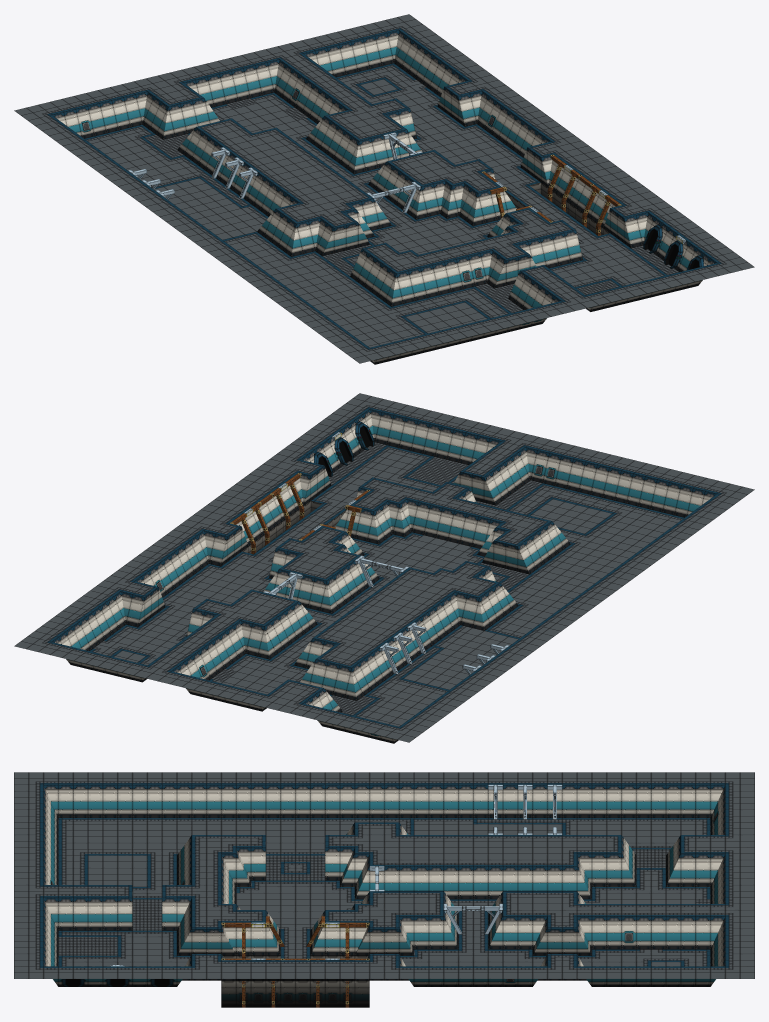
File: 1stage.obj
3 views of the same model, one above another, from view 1: azimuth 30°, elevation 25°; view 2: azimuth 150°, elevation 25°; view 3: azimuth 270°, elevation 25° (orthographic). The views are drawn at different scales.
Visible parts, largest first — view 1: wall_cornerInOut__1_, wall_cornerOut__19_, wall_cornerOut__17_, wall_cornerOut__8_, wall_cornerOut__10_, wall_cornerOut__15_, wall_cornerOut__5_, wall_edge_B__9_, wall_cornerInOut__2_, wall_edge_B__8_, wall_cornerInCap_B__1_, wall_edge_A__4_ (+11 smaller); view 2: wall_cornerInOut__4_, wall_cornerOut__18_, wall_cornerOut__4_, wall_cornerOut__7_, wall_cornerOut__9_, wall_cornerOut__16_, wall_edge_A__9_, wall_cornerInOut__3_, wall_cornerInCap_A__2_, wall_edge_A__8_, wall_edge_B__3_, wall_edge_B__5_ (+9 smaller); view 3: wall_cornerInOut__2_, wall_cornerInOut__3_, wall_cornerInCap_B__2_, wall_cornerInCap_A__1_, wall_cornerOut__2_, wall_cornerOut__12_, wall_cornerOut__3_, wall_cornerOut__11_, wall_cornerOut__14_, wall_cornerOut__1_, wall_cornerOut__13_, wall_edge_B__4_ (+109 smaller).
Part boxes in pixels (bbox=[...]): wall_cornerInOut__1_: bbox=[427, 173, 482, 218]; wall_cornerOut__19_: bbox=[149, 98, 186, 139]; wall_cornerOut__17_: bbox=[277, 216, 315, 256]; wall_cornerOut__8_: bbox=[459, 185, 496, 225]; wall_cornerOut__10_: bbox=[340, 133, 377, 173]; wall_cornerOut__15_: bbox=[378, 266, 415, 306]; wall_cornerOut__5_: bbox=[402, 178, 439, 219]; wall_edge_B__9_: bbox=[315, 220, 346, 255]; wall_cornerInOut__2_: bbox=[326, 196, 374, 238]; wall_edge_B__8_: bbox=[487, 252, 518, 288]; wall_cornerInCap_B__1_: bbox=[534, 146, 571, 187]; wall_edge_A__4_: bbox=[451, 89, 476, 126]; wall_cornerInOut__4_: bbox=[369, 491, 424, 536]; wall_cornerOut__18_: bbox=[333, 660, 370, 700]; wall_cornerOut__4_: bbox=[246, 618, 283, 659]; wall_cornerOut__7_: bbox=[355, 503, 392, 544]; wall_cornerOut__9_: bbox=[308, 573, 345, 613]; wall_cornerOut__16_: bbox=[460, 590, 497, 630]; wall_edge_A__9_: bbox=[505, 538, 536, 574]; wall_cornerInOut__3_: bbox=[477, 514, 525, 556]; wall_cornerInCap_A__2_: bbox=[280, 465, 317, 505]; wall_edge_A__8_: bbox=[472, 469, 502, 505]; wall_edge_B__3_: bbox=[126, 589, 151, 627]; wall_edge_B__5_: bbox=[209, 528, 234, 566]; wall_cornerInOut__2_: bbox=[340, 841, 384, 886]; wall_cornerInOut__3_: bbox=[206, 841, 250, 886]; wall_cornerInCap_B__2_: bbox=[206, 916, 236, 955]; wall_cornerInCap_A__1_: bbox=[355, 916, 384, 955]; wall_cornerOut__2_: bbox=[606, 847, 636, 886]; wall_cornerOut__12_: bbox=[488, 910, 517, 949]; wall_cornerOut__3_: bbox=[666, 847, 695, 886]; wall_cornerOut__11_: bbox=[429, 910, 458, 949]; wall_cornerOut__14_: bbox=[251, 916, 280, 955]; wall_cornerOut__1_: bbox=[562, 860, 591, 899]; wall_cornerOut__13_: bbox=[310, 916, 339, 955]; wall_edge_B__4_: bbox=[532, 922, 562, 955].
Bounding box in the file's own units: 66 × 8 × 100.
Materials: 2 (2 with a texture image).
